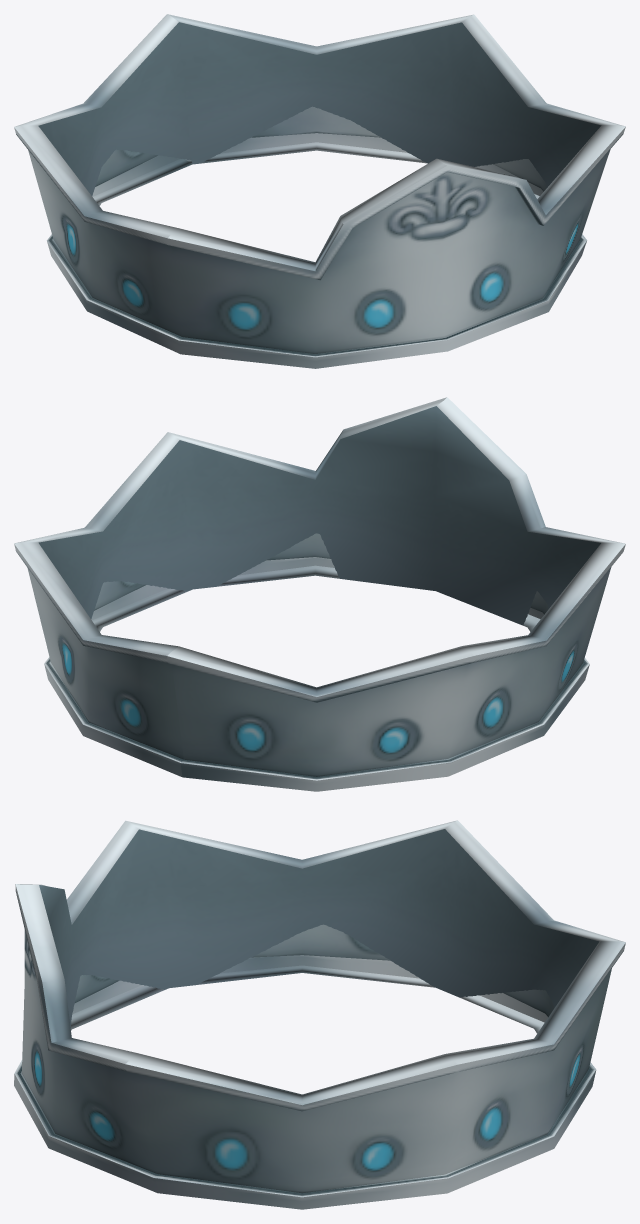
Rendered from corona_0020.fbx.
3 renders of one model, top to bottom at view 1: azimuth 30°, elevation 25°; view 2: azimuth 150°, elevation 25°; view 3: azimuth 270°, elevation 25°, orthographic. The views are drawn at different scales.
Visible parts, largest first — view 1: corona_0020; view 2: corona_0020; view 3: corona_0020.
Part boxes in pixels (left/top/right/bottom): corona_0020: left=14, top=14, right=625, bottom=368; corona_0020: left=14, top=397, right=625, bottom=791; corona_0020: left=14, top=820, right=625, bottom=1209.
Bounding box in the file's own units: 16.11 × 6.21 × 16.96.
